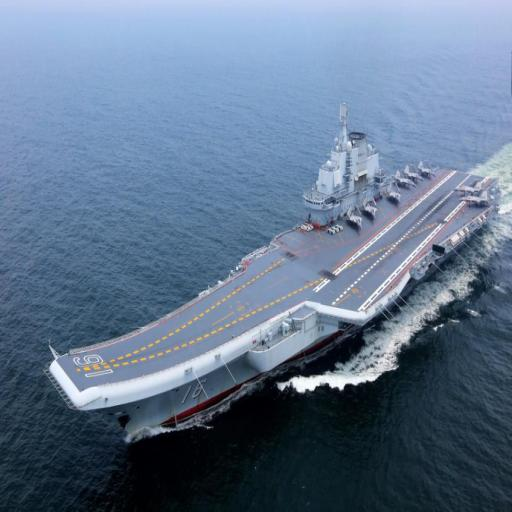Portanaves: (46, 97, 500, 451)
